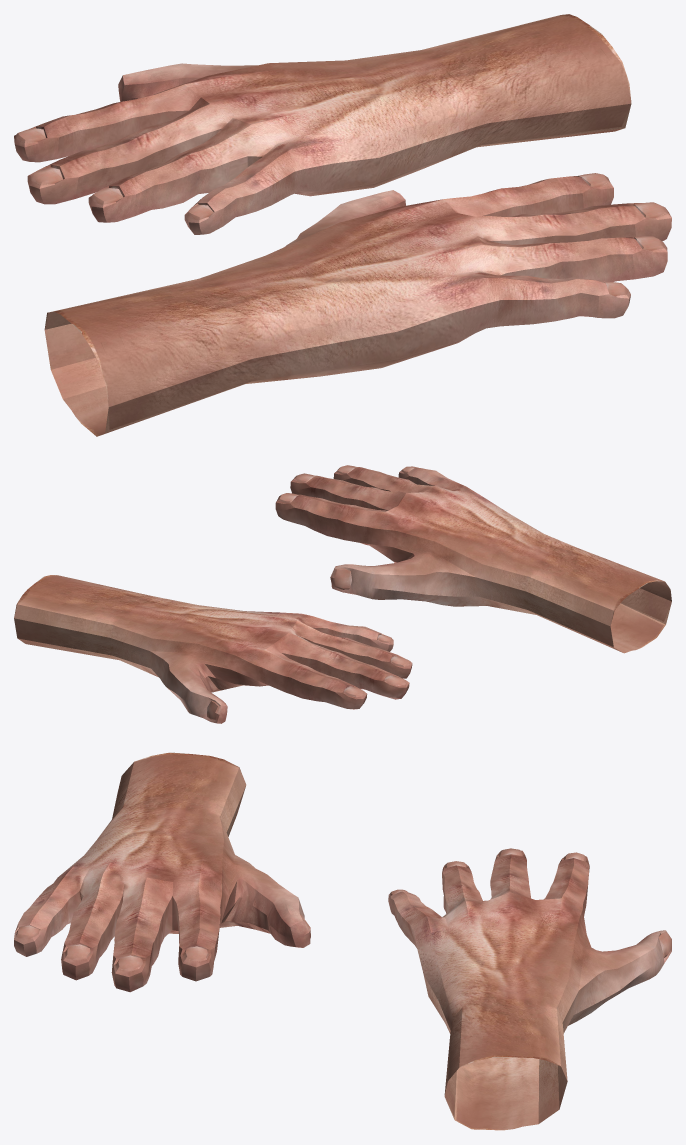
File: hands.obj
3 views of the same model, one above another, from view 1: azimuth 30°, elevation 25°; view 2: azimuth 150°, elevation 25°; view 3: azimuth 270°, elevation 25° (orthographic). The views are drawn at different scales.
Parts seen in each view (by area): view 1: Cube_000_Cube_017_Detached, Cube_000_Cube_017_Detached_Detached; view 2: Cube_000_Cube_017_Detached, Cube_000_Cube_017_Detached_Detached; view 3: Cube_000_Cube_017_Detached_Detached, Cube_000_Cube_017_Detached.
Part boxes in pixels (left/top/right/bottom): Cube_000_Cube_017_Detached: left=44, top=173, right=671, bottom=436; Cube_000_Cube_017_Detached_Detached: left=14, top=14, right=631, bottom=234; Cube_000_Cube_017_Detached: left=275, top=465, right=671, bottom=653; Cube_000_Cube_017_Detached_Detached: left=14, top=575, right=412, bottom=723; Cube_000_Cube_017_Detached_Detached: left=388, top=848, right=671, bottom=1130; Cube_000_Cube_017_Detached: left=14, top=752, right=310, bottom=992.
Bounding box in the file's own units: 0.3299 × 0.0627 × 0.3175.
1 material, 1 textured.
